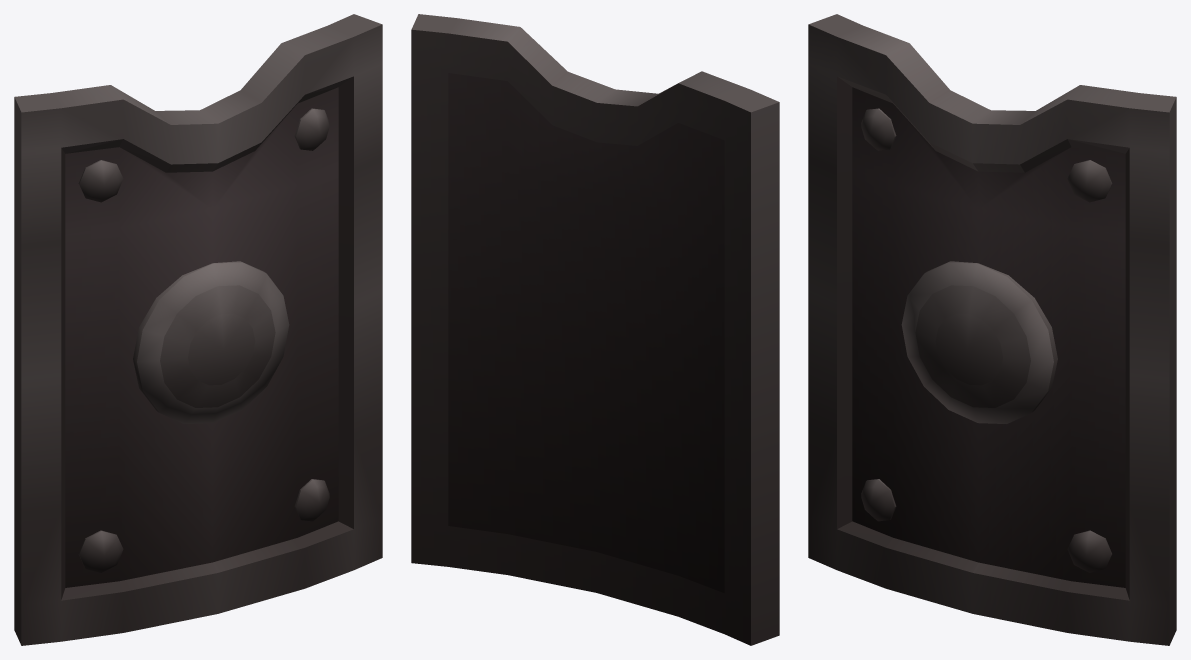
The model's file is Equip_Shield_10_3.FBX.
3 views of the same model, side by side, from view 1: azimuth 30°, elevation 25°; view 2: azimuth 150°, elevation 25°; view 3: azimuth 330°, elevation 25° (orthographic).
Parts seen in each view (by area): view 1: Equip_Shield_10_3; view 2: Equip_Shield_10_3; view 3: Equip_Shield_10_3.
Part boxes in pixels (left/top/right/bottom): Equip_Shield_10_3: left=14, top=14, right=382, bottom=645; Equip_Shield_10_3: left=411, top=14, right=779, bottom=645; Equip_Shield_10_3: left=808, top=14, right=1176, bottom=645.
Size of the model in its own units: 46.44 by 65.57 by 8.84.
